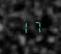one: (19, 20, 29, 34)
seven: (30, 20, 40, 33)
